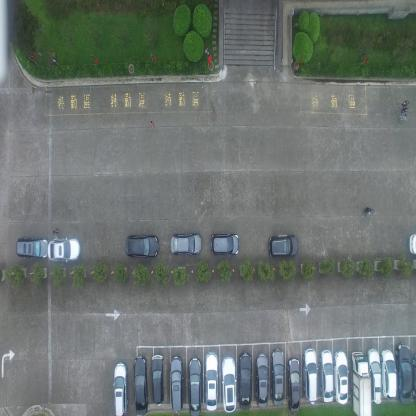car: (350, 350, 372, 415), (395, 342, 412, 406), (132, 356, 148, 415), (366, 346, 382, 405), (221, 356, 237, 414), (124, 233, 160, 258), (187, 356, 202, 416), (168, 355, 184, 411), (47, 235, 80, 262), (302, 347, 317, 406), (380, 348, 397, 400), (169, 230, 202, 256), (113, 362, 129, 415), (238, 350, 252, 410), (267, 233, 299, 259), (150, 354, 166, 406), (271, 347, 285, 406), (204, 352, 218, 411), (319, 348, 334, 403), (286, 357, 300, 413), (334, 350, 348, 406), (15, 236, 49, 259), (255, 352, 269, 407), (210, 232, 240, 256), (412, 352, 416, 403), (408, 232, 415, 257)
